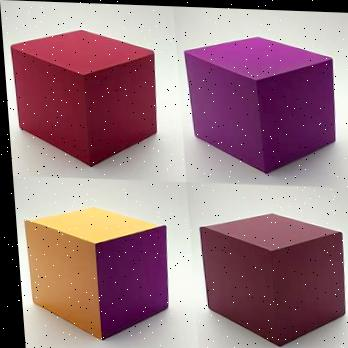cube: (9, 25, 160, 168), (186, 32, 338, 172), (195, 208, 345, 347), (22, 205, 168, 341)
